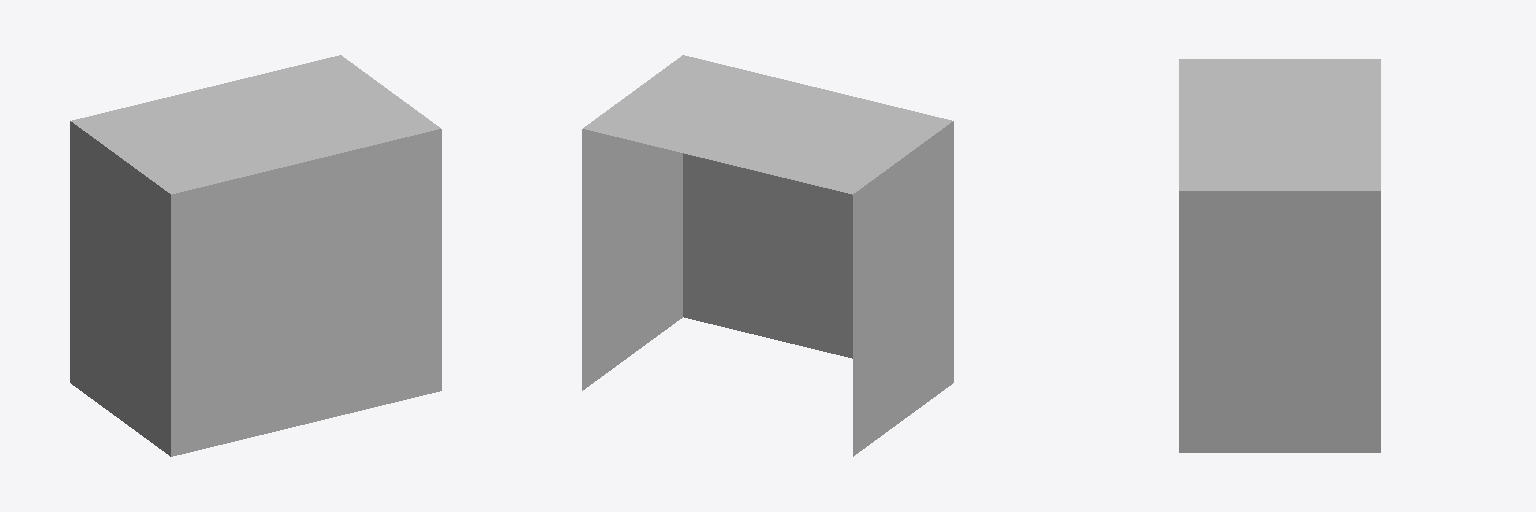
The model's file is earth_dungeon.obj.
3 views of the same model, side by side, from view 1: azimuth 30°, elevation 25°; view 2: azimuth 150°, elevation 25°; view 3: azimuth 270°, elevation 25° (orthographic).
Parts seen in each view (by area): view 1: Cube.001; view 2: Cube.001; view 3: Cube.001.
Part boxes in pixels (x1,y1,x2,y2): Cube.001: (70, 55, 441, 456); Cube.001: (582, 55, 953, 456); Cube.001: (1179, 59, 1380, 452).
Bounding box in the file's own units: 24 × 22.25 × 15.48.